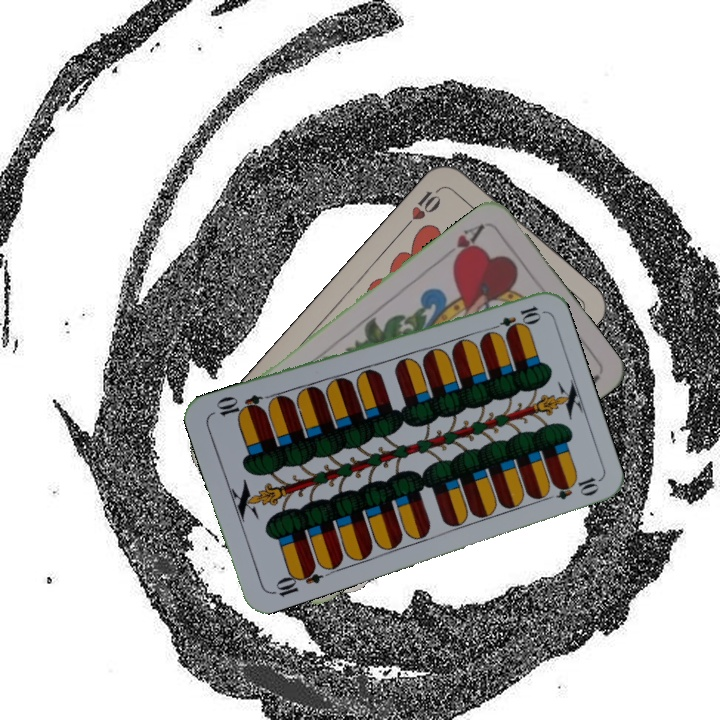E10: (267, 561, 325, 600), (485, 302, 543, 335)
H10: (401, 182, 446, 231)
HA: (448, 220, 488, 267)
